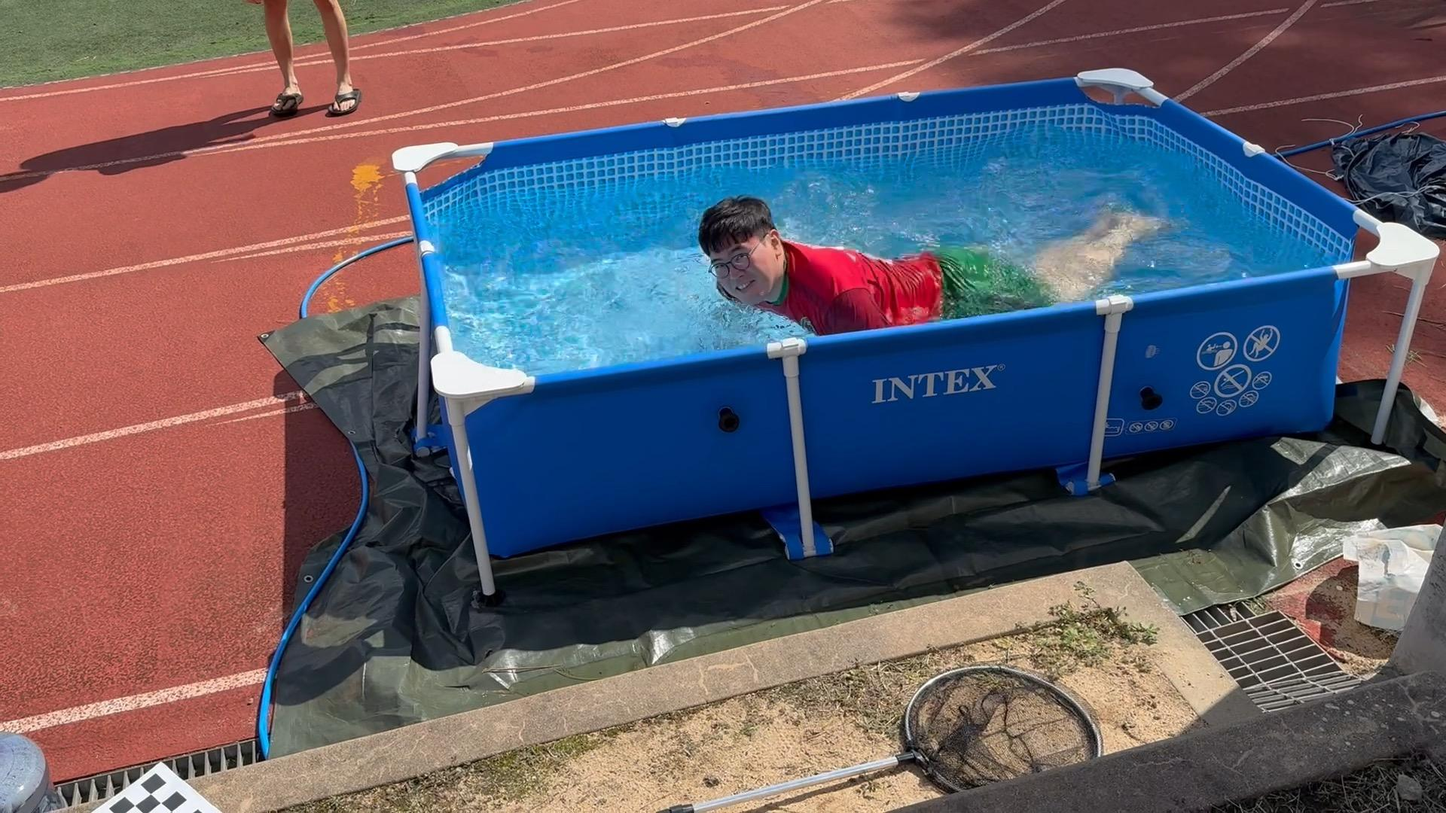Swimming: (650, 142, 1178, 347)
